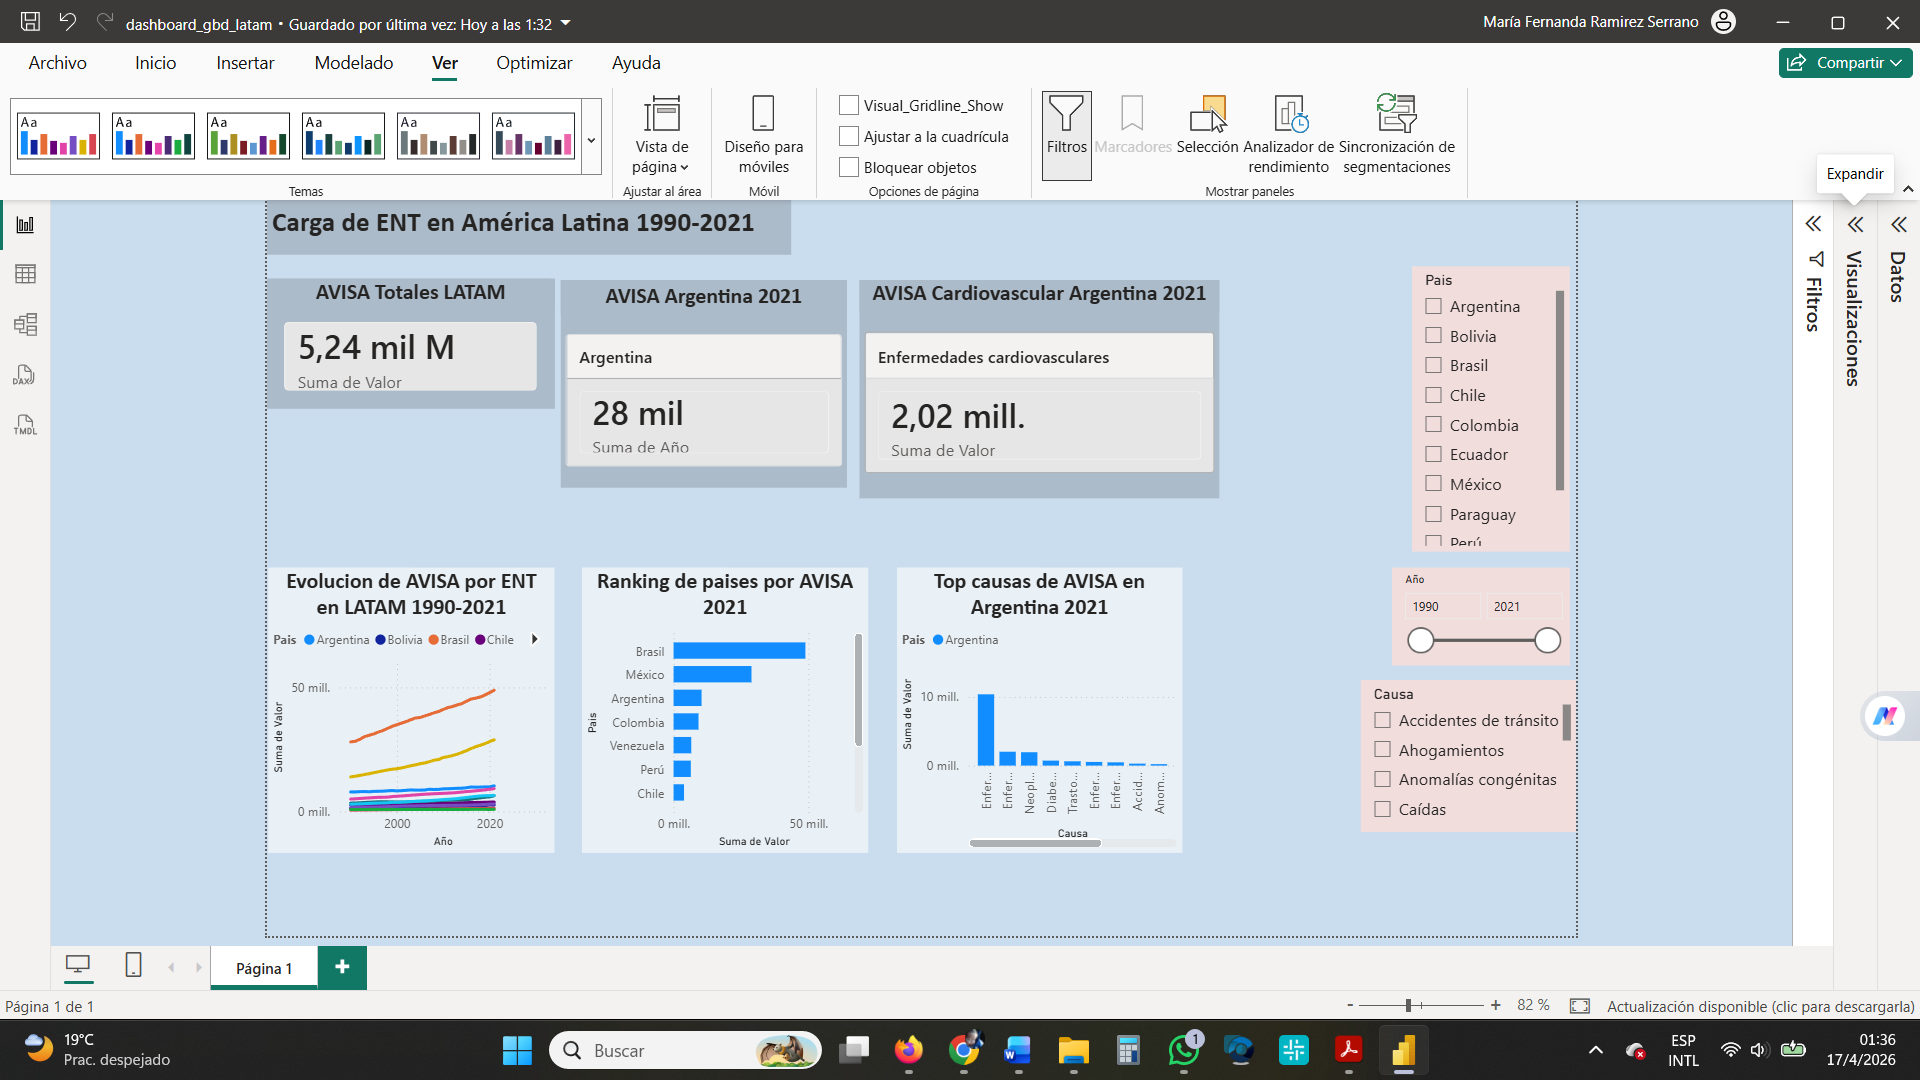

The dashboard page shown, as its layout file describes it:
{"tool":"powerbi","page":{"name":"Página 1","canvas":[1280,720],"ordinal":0},"visuals":[{"type":"cardVisual","title":"AVISA Totales LATAM","fields":{"Data":["Sum(gbd_powerbi3.valor)","Sum(gbd_powerbi3.valor)"]},"box":[0,77,281.3,127.2],"z":1000},{"type":"cardVisual","title":"AVISA Argentina 2021","fields":{"Rows":["gbd_powerbi3.pais","gbd_powerbi3.anio"],"Data":["Sum(gbd_powerbi3.anio)","Sum(gbd_powerbi3.anio)"]},"box":[287.4,78.3,280,203],"z":2000},{"type":"cardVisual","title":"AVISA Cardiovascular Argentina 2021","fields":{"Data":["Sum(gbd_powerbi3.valor)","Sum(gbd_powerbi3.valor)"],"Rows":["gbd_powerbi3.causa","gbd_powerbi3.causa","gbd_powerbi3.pais","gbd_powerbi3.pais","gbd_powerbi3.anio","gbd_powerbi3.anio"]},"box":[579.6,78.3,352.2,214],"z":3000},{"type":"lineChart","title":"Evolucion de AVISA por ENT en LATAM 1990-2021","fields":{"Category":["gbd_powerbi3.anio"],"Y":["Sum(gbd_powerbi3.valor)"],"Series":["gbd_powerbi3.pais"]},"box":[1.2,359.5,280,278.8],"z":4000},{"type":"barChart","title":"Ranking de paises por AVISA 2021","fields":{"Category":["gbd_powerbi3.pais"],"Y":["Sum(gbd_powerbi3.valor)"]},"box":[308.2,359.5,280,278.8],"z":5000},{"type":"clusteredColumnChart","title":"Top causas de AVISA en Argentina 2021","fields":{"Category":["gbd_powerbi3.causa"],"Y":["Sum(gbd_powerbi3.valor)"],"Series":["gbd_powerbi3.pais"]},"box":[616.3,359.5,278.8,278.8],"z":6000},{"type":"slicer","fields":{"Values":["gbd_powerbi3.anio"]},"box":[1100.5,359.5,173.6,95.4],"z":7000},{"type":"slicer","fields":{"Values":["gbd_powerbi3.causa"]},"box":[1070,469.6,210.3,149.2],"z":8000},{"type":"textbox","box":[0,0,512.7,53.5],"z":9000},{"type":"slicer","fields":{"Values":["gbd_powerbi3.pais"]},"box":[1120.1,64.8,154.1,278.8],"z":9500}]}

Visuals, with their boxes on the page's 1280x720 design canvas (x1, y1, x2, y2). These are canvas units, not pixel positions in the 1920x1080 screenshot, which may show the page scaled, cropped or inside an application window:
"AVISA Totales LATAM" cardVisual: BBox(0, 77, 281, 204)
"AVISA Argentina 2021" cardVisual: BBox(287, 78, 567, 281)
"AVISA Cardiovascular Argentina 2021" cardVisual: BBox(580, 78, 932, 292)
"Evolucion de AVISA por ENT en LATAM 1990-2021" lineChart: BBox(1, 360, 281, 638)
"Ranking de paises por AVISA 2021" barChart: BBox(308, 360, 588, 638)
"Top causas de AVISA en Argentina 2021" clusteredColumnChart: BBox(616, 360, 895, 638)
slicer - gbd_powerbi3.anio: BBox(1100, 360, 1274, 455)
slicer - gbd_powerbi3.causa: BBox(1070, 470, 1280, 619)
textbox: BBox(0, 0, 513, 54)
slicer - gbd_powerbi3.pais: BBox(1120, 65, 1274, 344)
